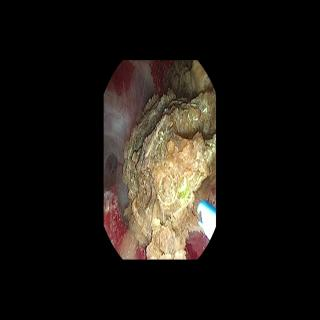laser: (178, 181, 190, 198)
stone: (122, 62, 214, 258)
